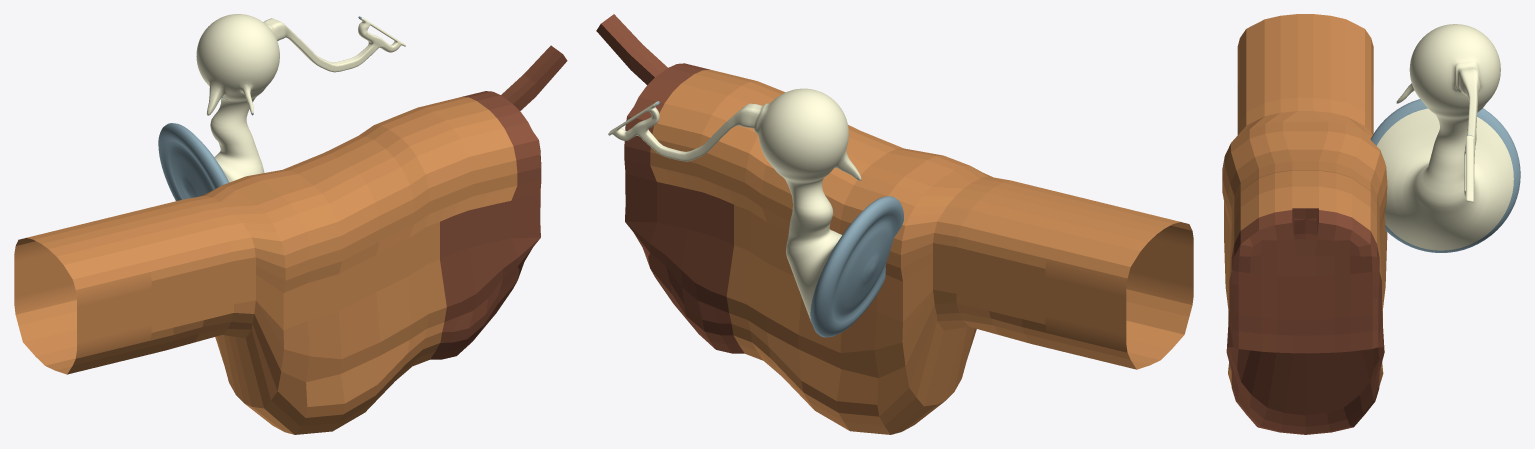
Rendered from Ear model proper (1).FBX.
The picture shows the model from 3 angles, left to right: view 1: azimuth 30°, elevation 25°; view 2: azimuth 150°, elevation 25°; view 3: azimuth 270°, elevation 25°; orthographic projection. The views are drawn at different scales.
Parts seen in each view (by area): view 1: Drum cover002, Drum; view 2: Drum cover002, Drum; view 3: Drum cover002, Drum.
Boxes of the visible parts, bbox=[...] form: Drum cover002: bbox=[14, 45, 567, 434]; Drum: bbox=[158, 14, 405, 200]; Drum cover002: bbox=[596, 14, 1193, 434]; Drum: bbox=[608, 88, 903, 337]; Drum cover002: bbox=[1222, 14, 1387, 434]; Drum: bbox=[1370, 24, 1520, 252].
Size of the model in its own units: 634885 by 415705 by 290368.
Materials: 4 (4 with a texture image).
